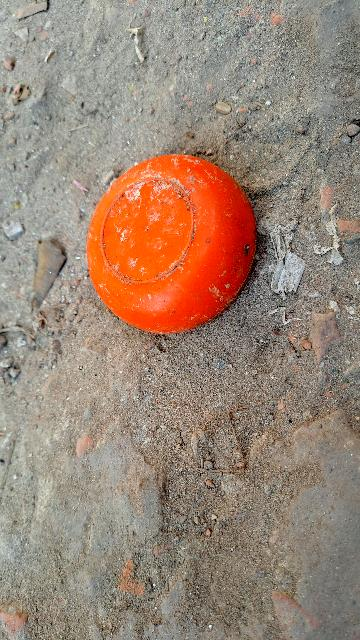hardplastic: (46, 130, 288, 330)
